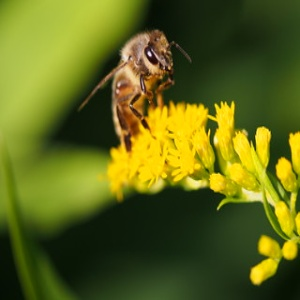bee: (77, 25, 192, 155)
